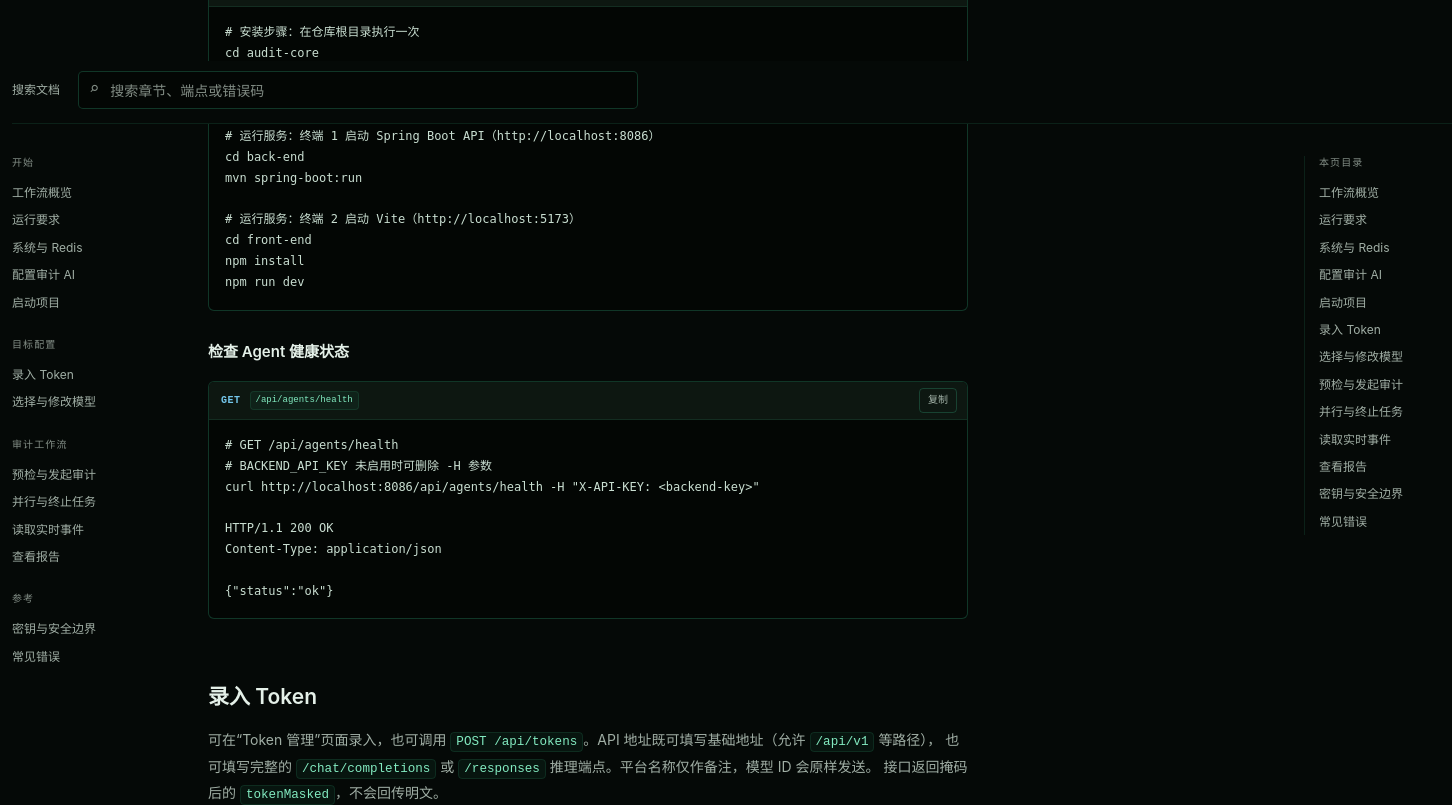
Scenario: GuideView › gives accessible Chinese feedback when copying fails
(page scrolled)
Click the 2nd button "复制". click: point(938, 400)
box: [919, 388, 957, 413]
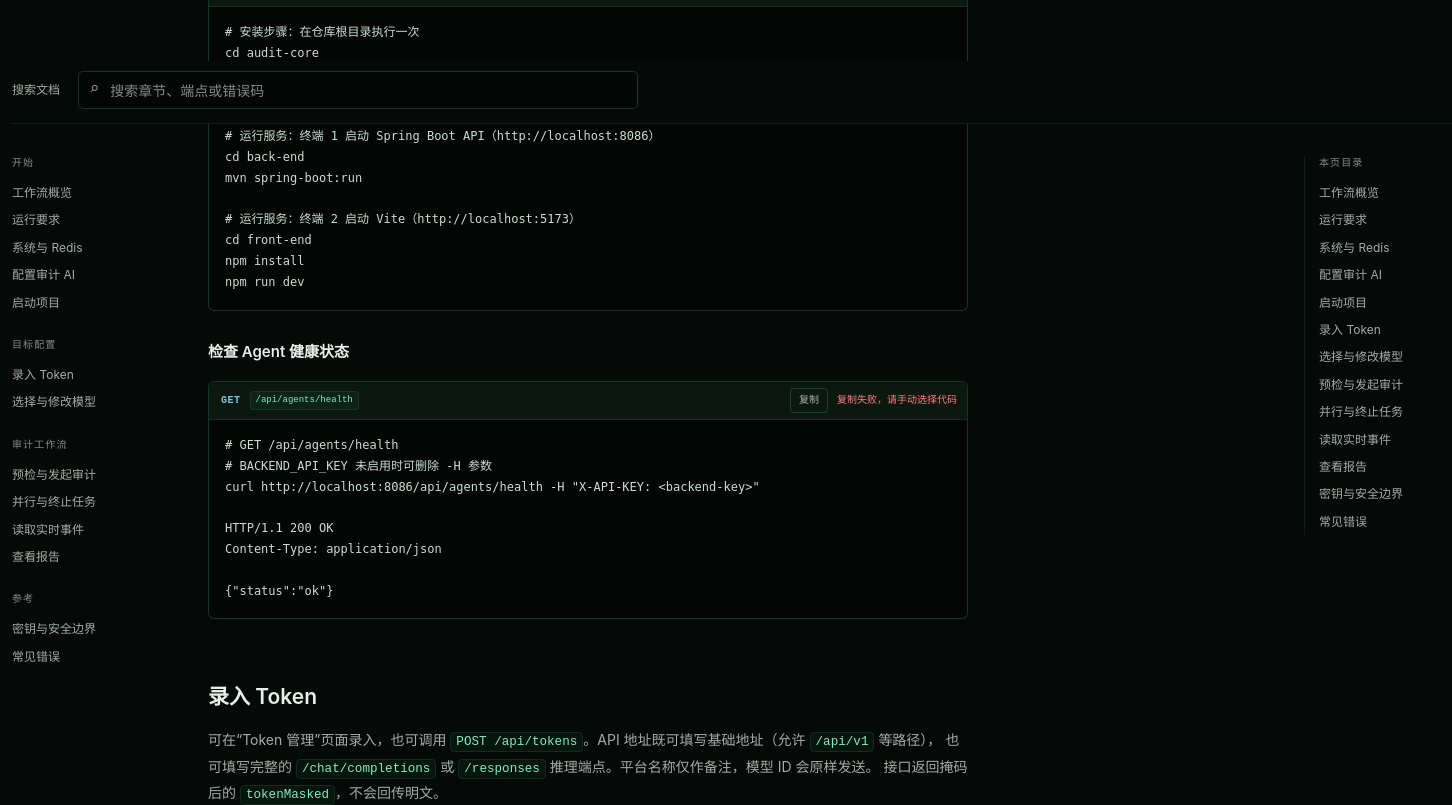
Expected: the message "复制失败，请手动选择代码" is shown, [837, 393, 957, 408]
